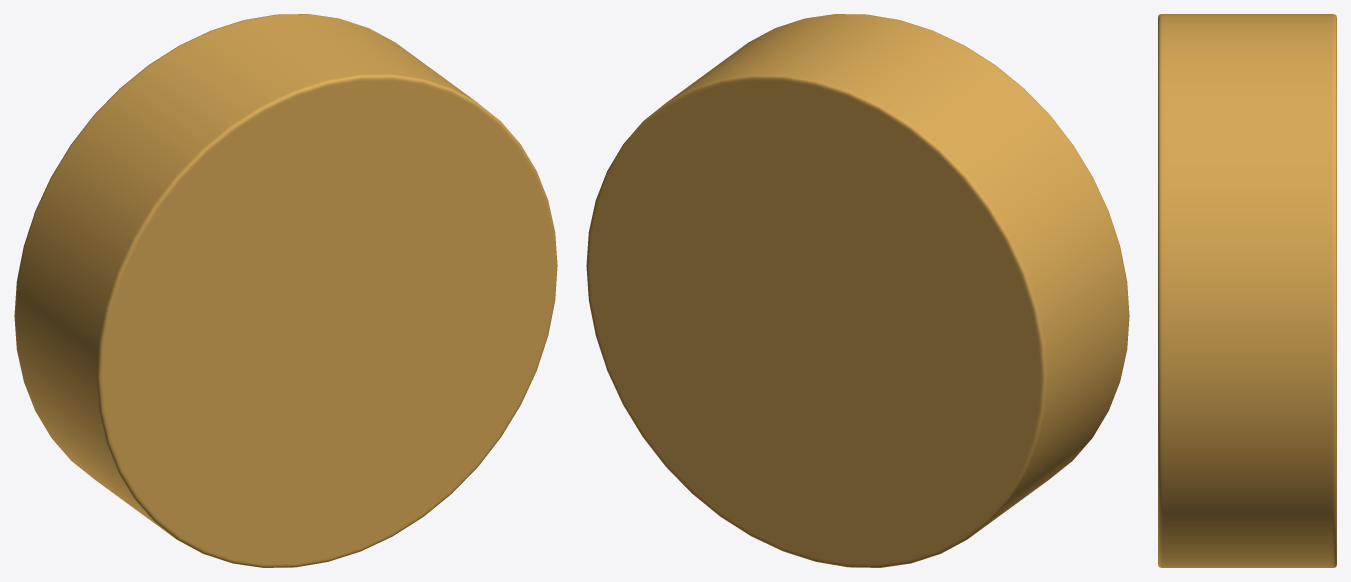
3 views of the same model, side by side, from view 1: azimuth 30°, elevation 25°; view 2: azimuth 150°, elevation 25°; view 3: azimuth 270°, elevation 25° (orthographic). The views are drawn at different scales.
Parts seen in each view (by area): view 1: Gallotti_Radice_Tip_Tap_Toe; view 2: Gallotti_Radice_Tip_Tap_Toe; view 3: Gallotti_Radice_Tip_Tap_Toe.
Part boxes in pixels (x1=…): Gallotti_Radice_Tip_Tap_Toe: x1=14, y1=14, x2=557, y2=567; Gallotti_Radice_Tip_Tap_Toe: x1=586, y1=14, x2=1129, y2=567; Gallotti_Radice_Tip_Tap_Toe: x1=1158, y1=14, x2=1336, y2=567.
Size of the model in its own units: 465 by 465 by 150.
